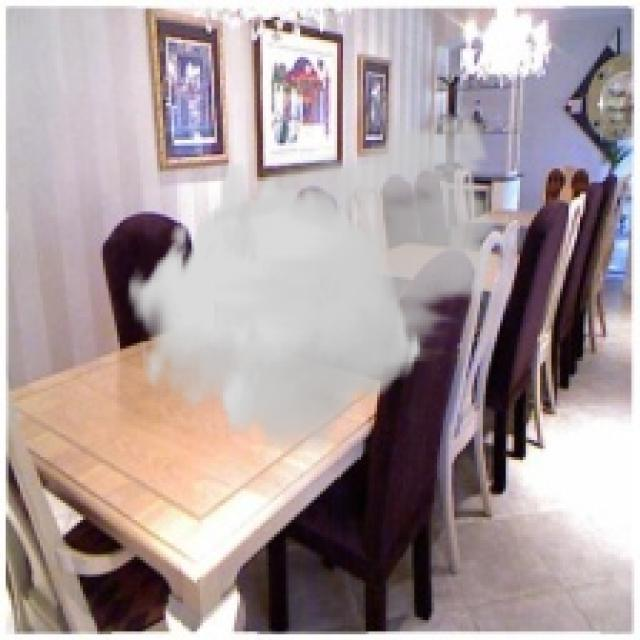Smoke: (126, 97, 512, 452)
